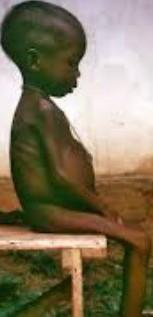Stunting: (0, 0, 102, 102)
